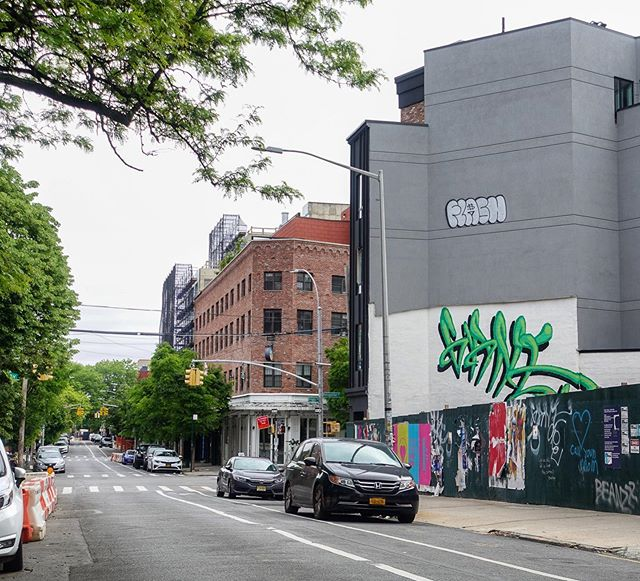building: (357, 34, 637, 539), (191, 226, 352, 414)
car: (280, 434, 437, 531), (216, 451, 277, 495)
crosswalk: (58, 480, 223, 502), (53, 466, 165, 484)
graffiti: (414, 391, 640, 515), (437, 296, 594, 390), (434, 180, 514, 231)
sky: (60, 126, 194, 336)
street: (30, 448, 594, 581)
tree: (1, 1, 291, 178), (1, 176, 87, 380)
